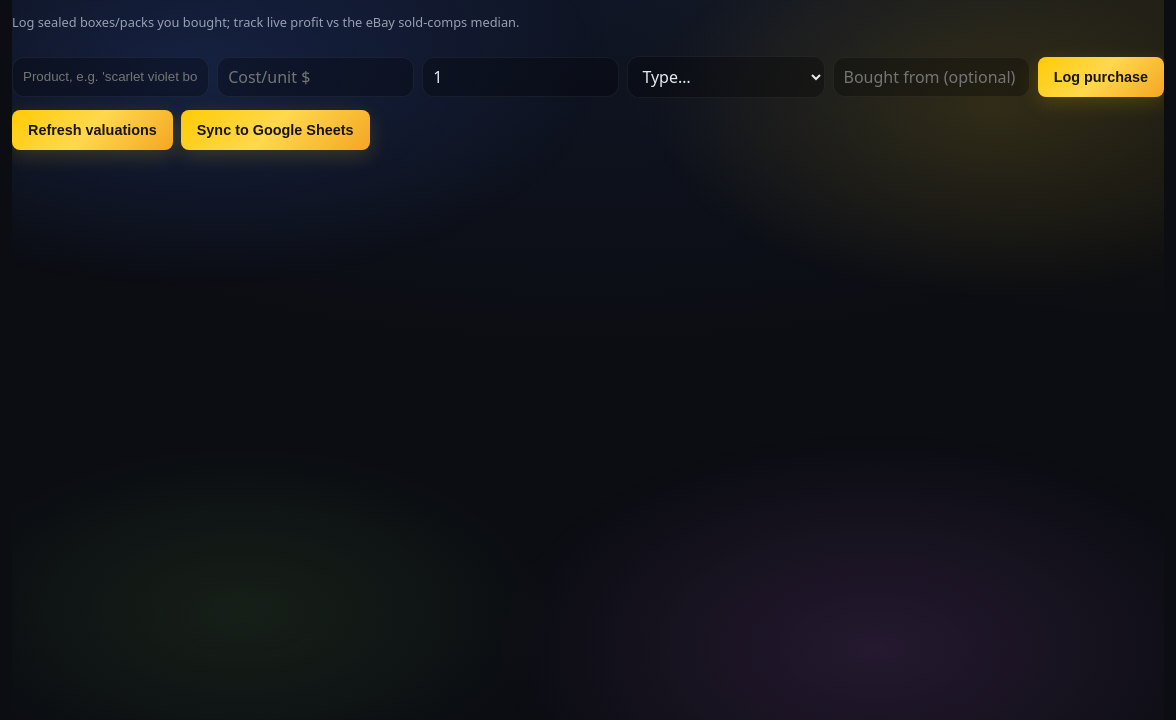
Scenario: SealedLedger › warns when the eBay key is missing on refresh
Step 1. Click the button "Refresh valuations" → click(92, 130), box x1=12 y1=110 x2=173 y2=150
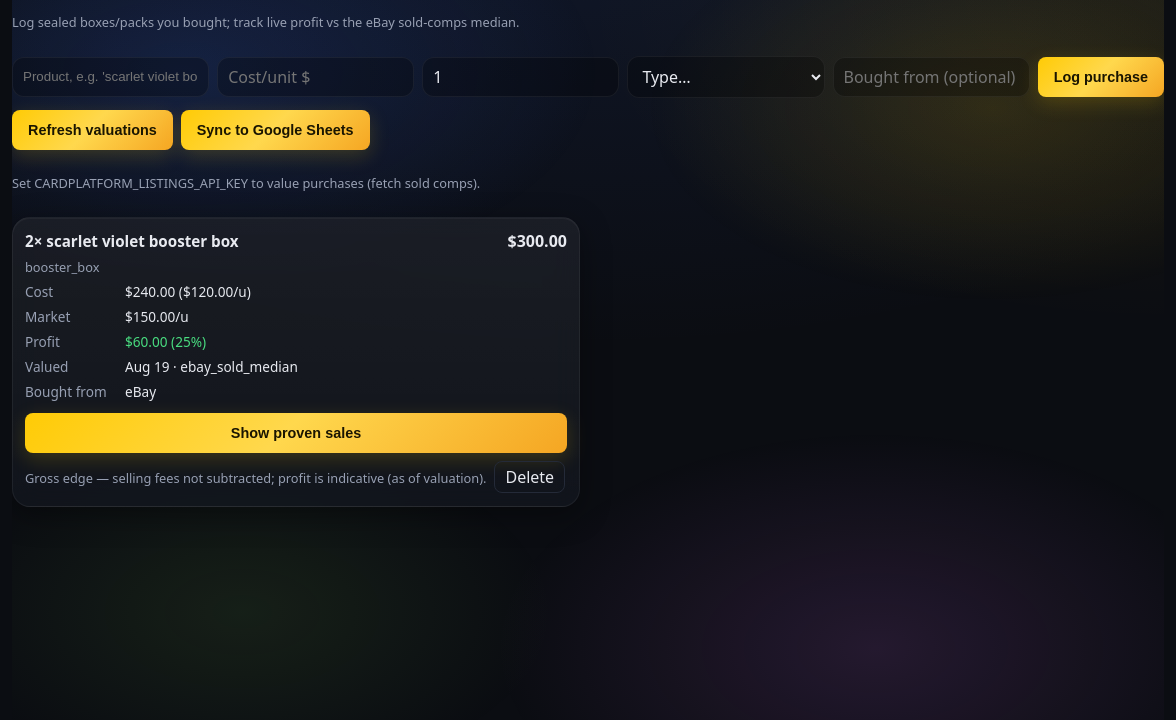
Check: the text "Set CARDPLATFORM_LISTINGS_API_KEY" is shown, box x1=12 y1=174 x2=480 y2=192
